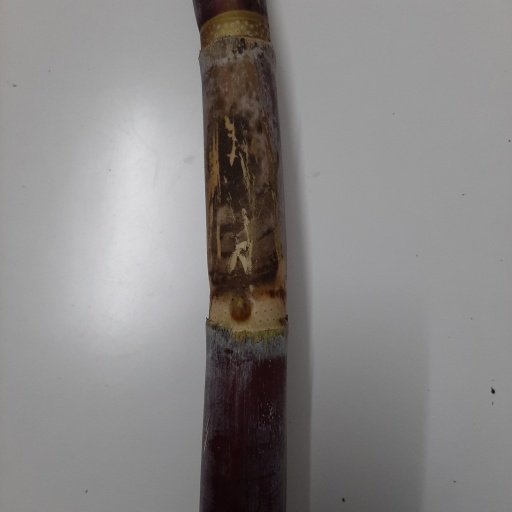Bud: (229, 291, 252, 323)
